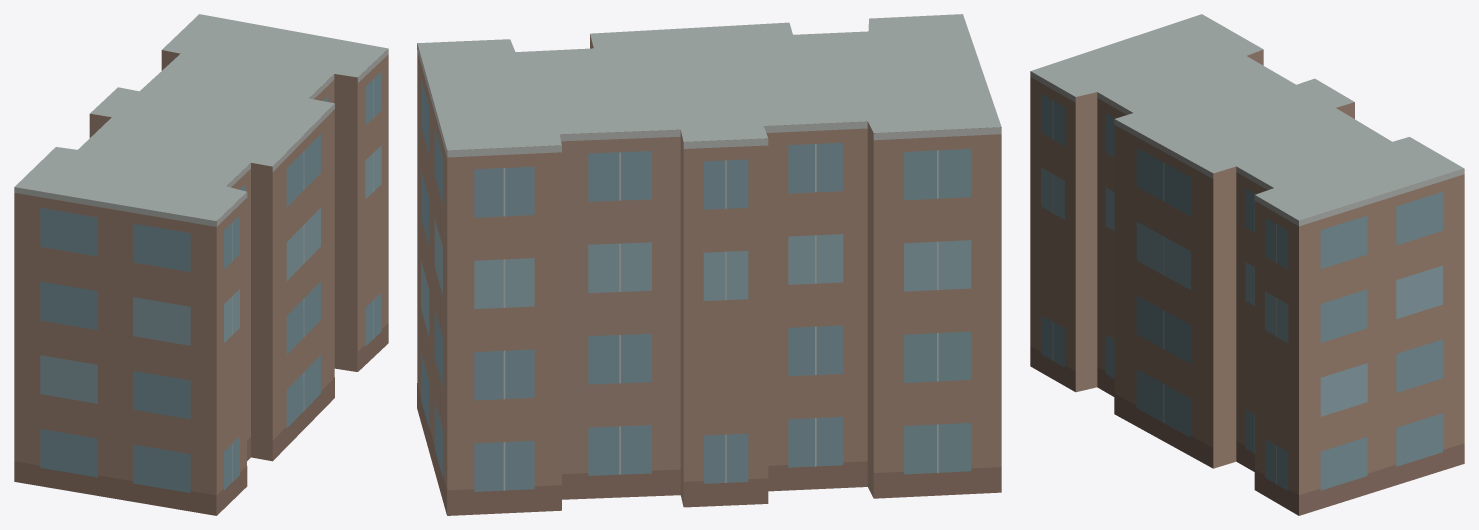
Rendered from survey-upis-32927240.glb.
The picture shows the model from 3 angles, left to right: view 1: azimuth 30°, elevation 25°; view 2: azimuth 150°, elevation 25°; view 3: azimuth 270°, elevation 25°; orthographic projection. The views are drawn at different scales.
Visible parts, largest first — view 1: survey-upis-32927240.tmp; view 2: survey-upis-32927240.tmp; view 3: survey-upis-32927240.tmp.
Part boxes in pixels (x1,y1,x2,y2): survey-upis-32927240.tmp: (14,14,388,515); survey-upis-32927240.tmp: (417,14,1001,515); survey-upis-32927240.tmp: (1030,14,1464,515).
Bounding box in the file's own units: 18.77 × 12.5 × 16.66.
